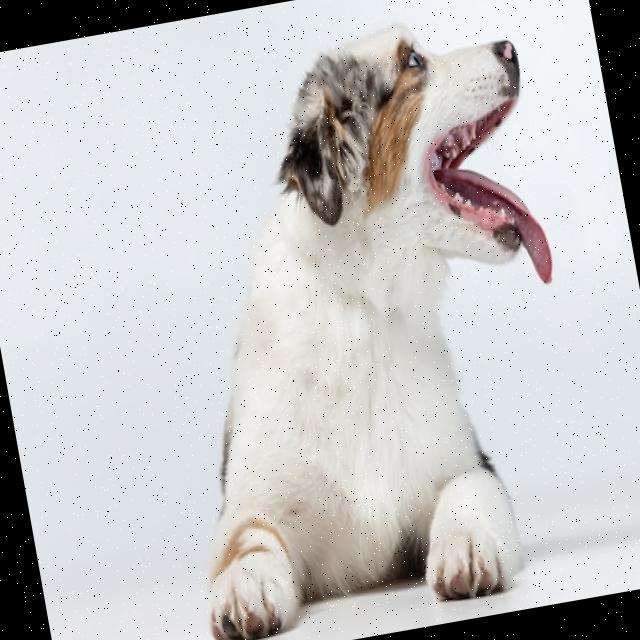Dog: (112, 2, 609, 640)
